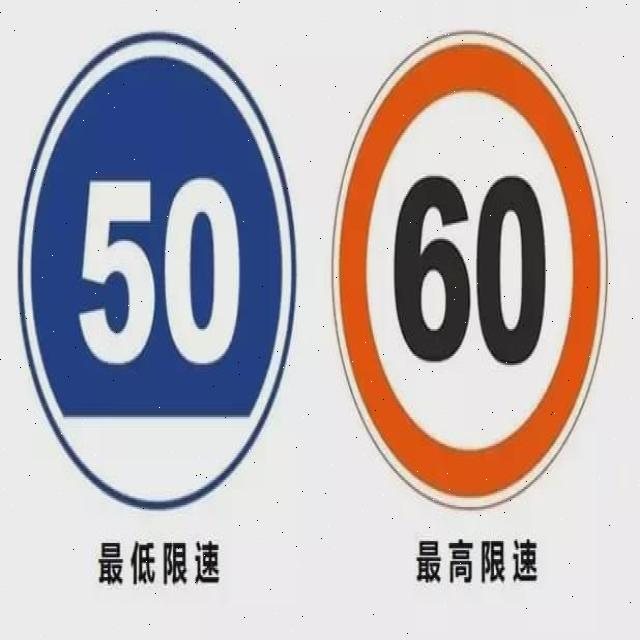speed limit 50: (16, 32, 298, 511)
speed limit 60: (330, 30, 610, 515)
